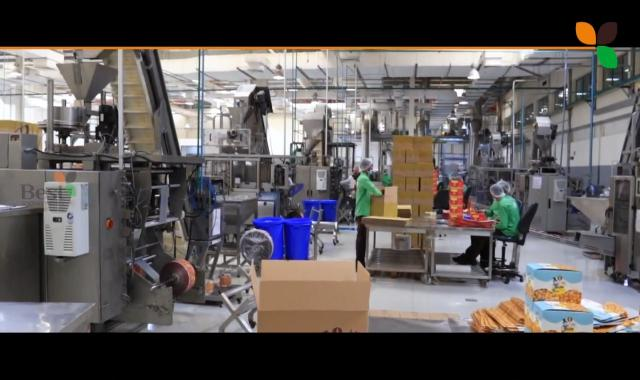hairnet: (492, 180, 508, 198), (358, 159, 371, 172)
